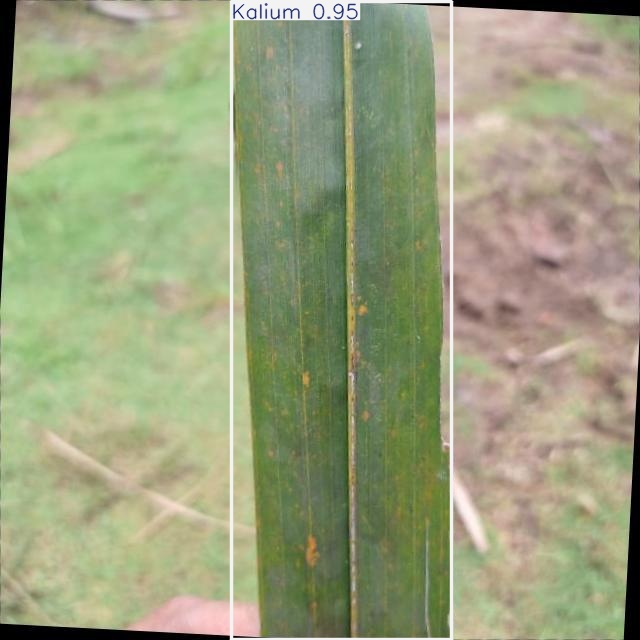Kalium: (232, 1, 452, 640)
